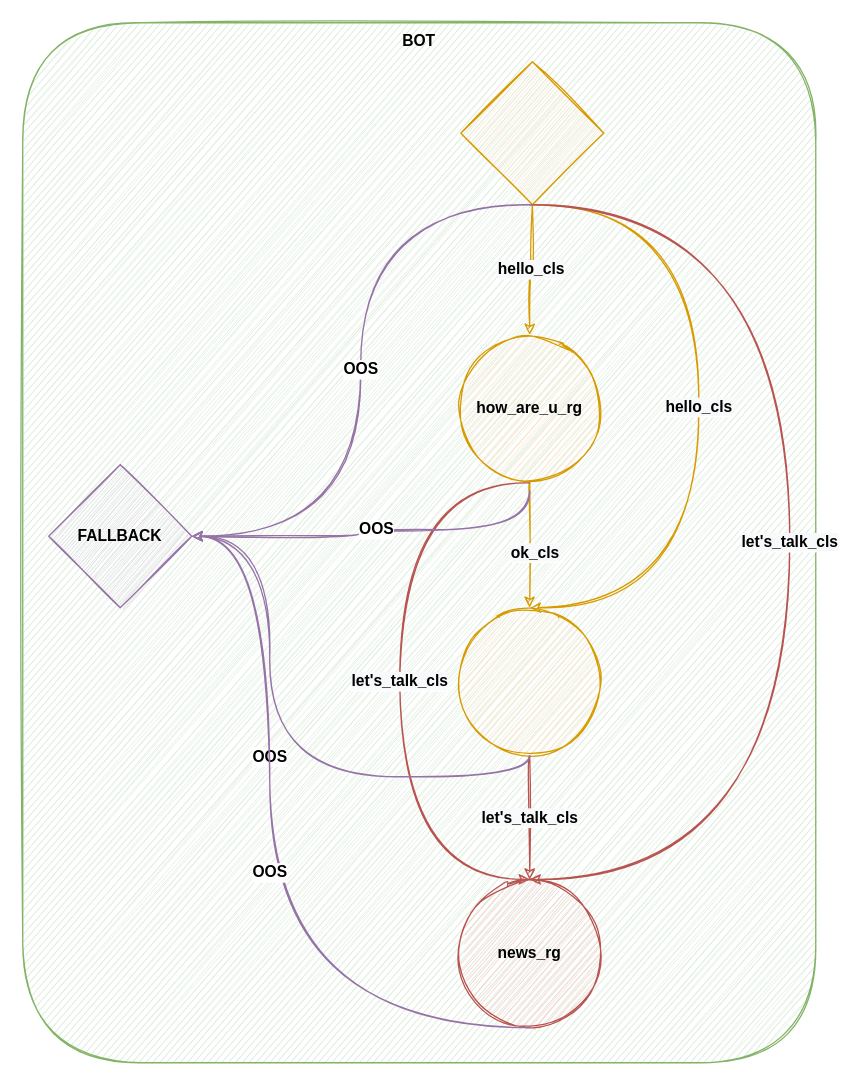
The diagram is 861 pixels wide and 1086 high, and some of its shapes have lost their labels. Each missing label, with the centre of its shape:
"ok_rg" goes at point (529, 681).
"START" goes at point (532, 132).
